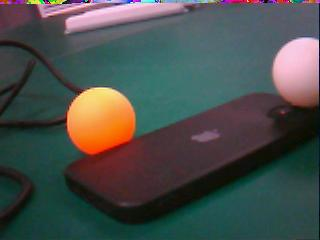oball: (68, 88, 134, 155)
